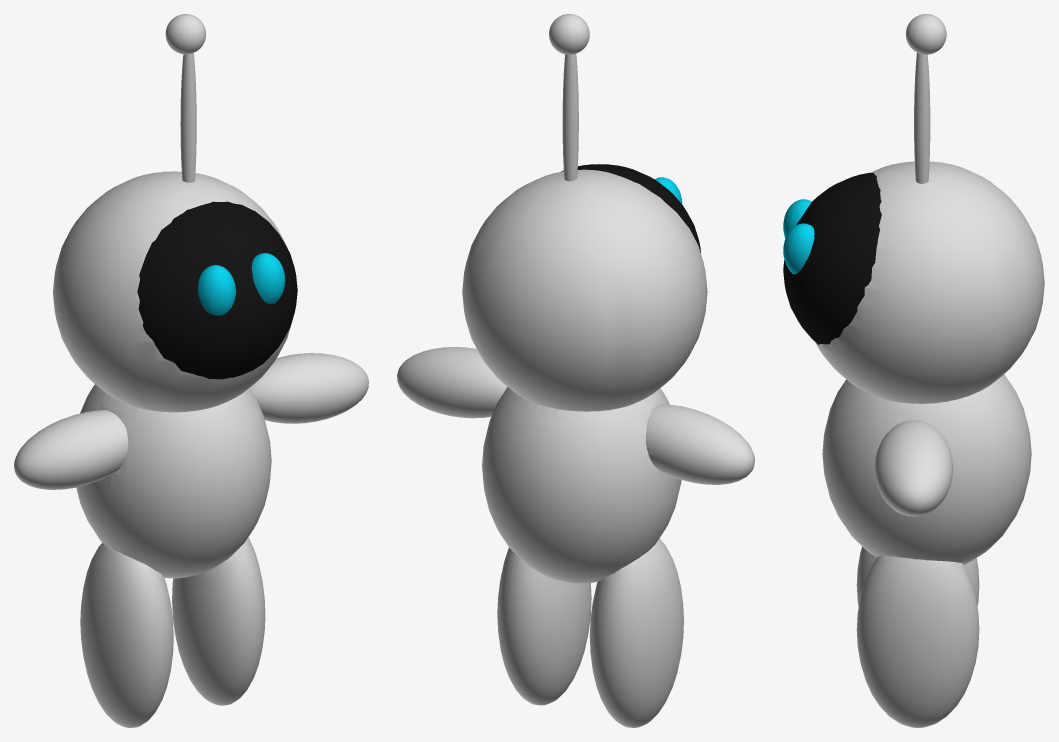
The model's file is scene-transformed-astro.glb.
3 views of the same model, side by side, from view 1: azimuth 30°, elevation 25°; view 2: azimuth 150°, elevation 25°; view 3: azimuth 270°, elevation 25° (orthographic).
Visible parts, largest first — view 1: Object_2, Object_3, Object_4; view 2: Object_2, Object_3; view 3: Object_2, Object_3, Object_4.
Part boxes in pixels (x1,y1,x2,y2): Object_2: (14,14,368,727); Object_3: (137,201,297,379); Object_4: (198,253,285,315); Object_2: (397,14,754,727); Object_3: (561,164,700,252); Object_2: (815,14,1044,727); Object_3: (783,172,881,344); Object_4: (783,199,814,274).
Bounding box in the file's own units: 49.7 × 94 × 32.
